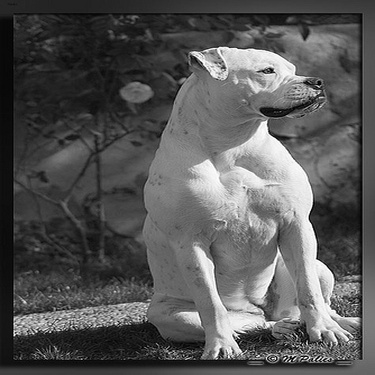dog: (134, 38, 358, 358)
